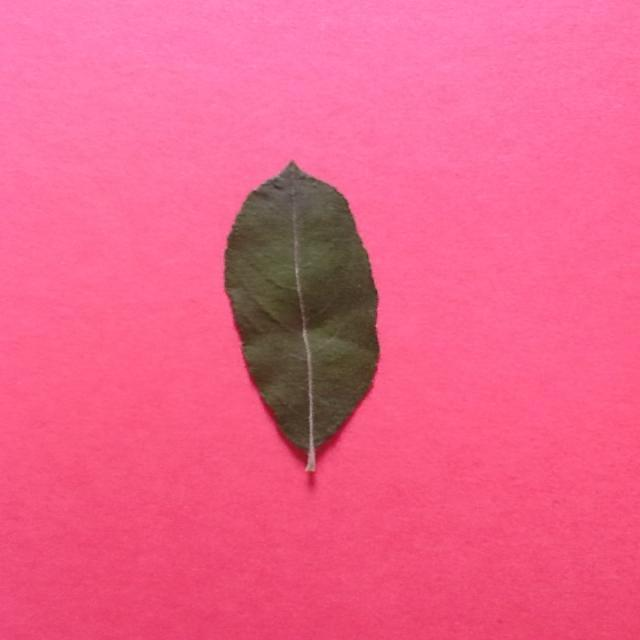foliage: (228, 160, 382, 475)
